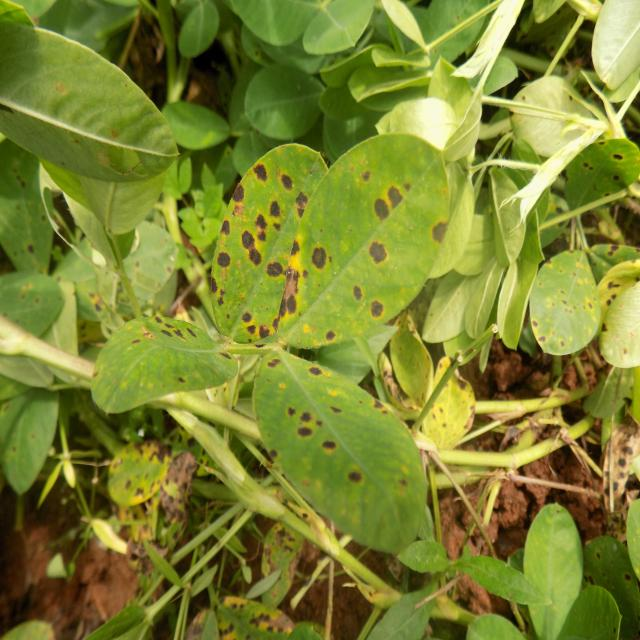Ground nut_tikka leaf spot: (283, 129, 447, 345), (255, 348, 430, 550), (208, 140, 329, 340), (93, 312, 239, 418), (529, 245, 601, 355)
